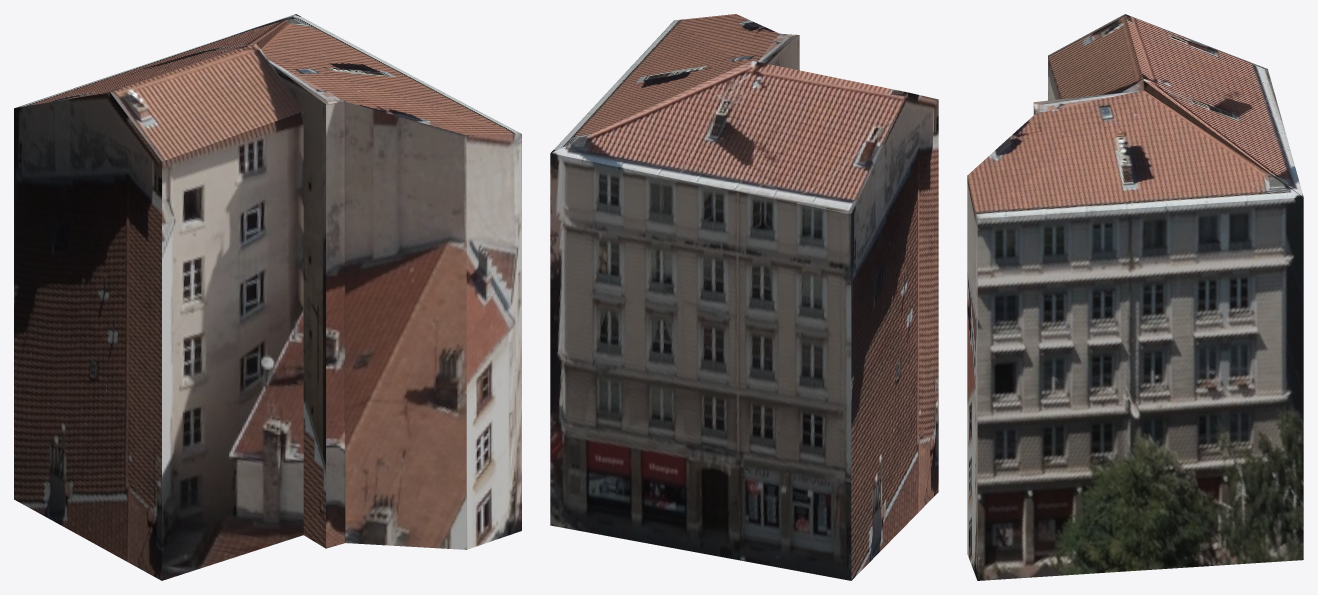
3 renders of one model, left to right at view 1: azimuth 30°, elevation 25°; view 2: azimuth 150°, elevation 25°; view 3: azimuth 270°, elevation 25°, orthographic. The views are drawn at different scales.
Parts seen in each view (by area): view 1: Z_UP; view 2: Z_UP; view 3: Z_UP.
Boxes of the visible parts, left/top/right/bottom form: Z_UP: left=14, top=14, right=521, bottom=580; Z_UP: left=550, top=14, right=938, bottom=580; Z_UP: left=967, top=14, right=1303, bottom=580.
Bounding box in the file's own units: 17.96 × 22.8 × 16.46.
2 materials, 1 textured.
